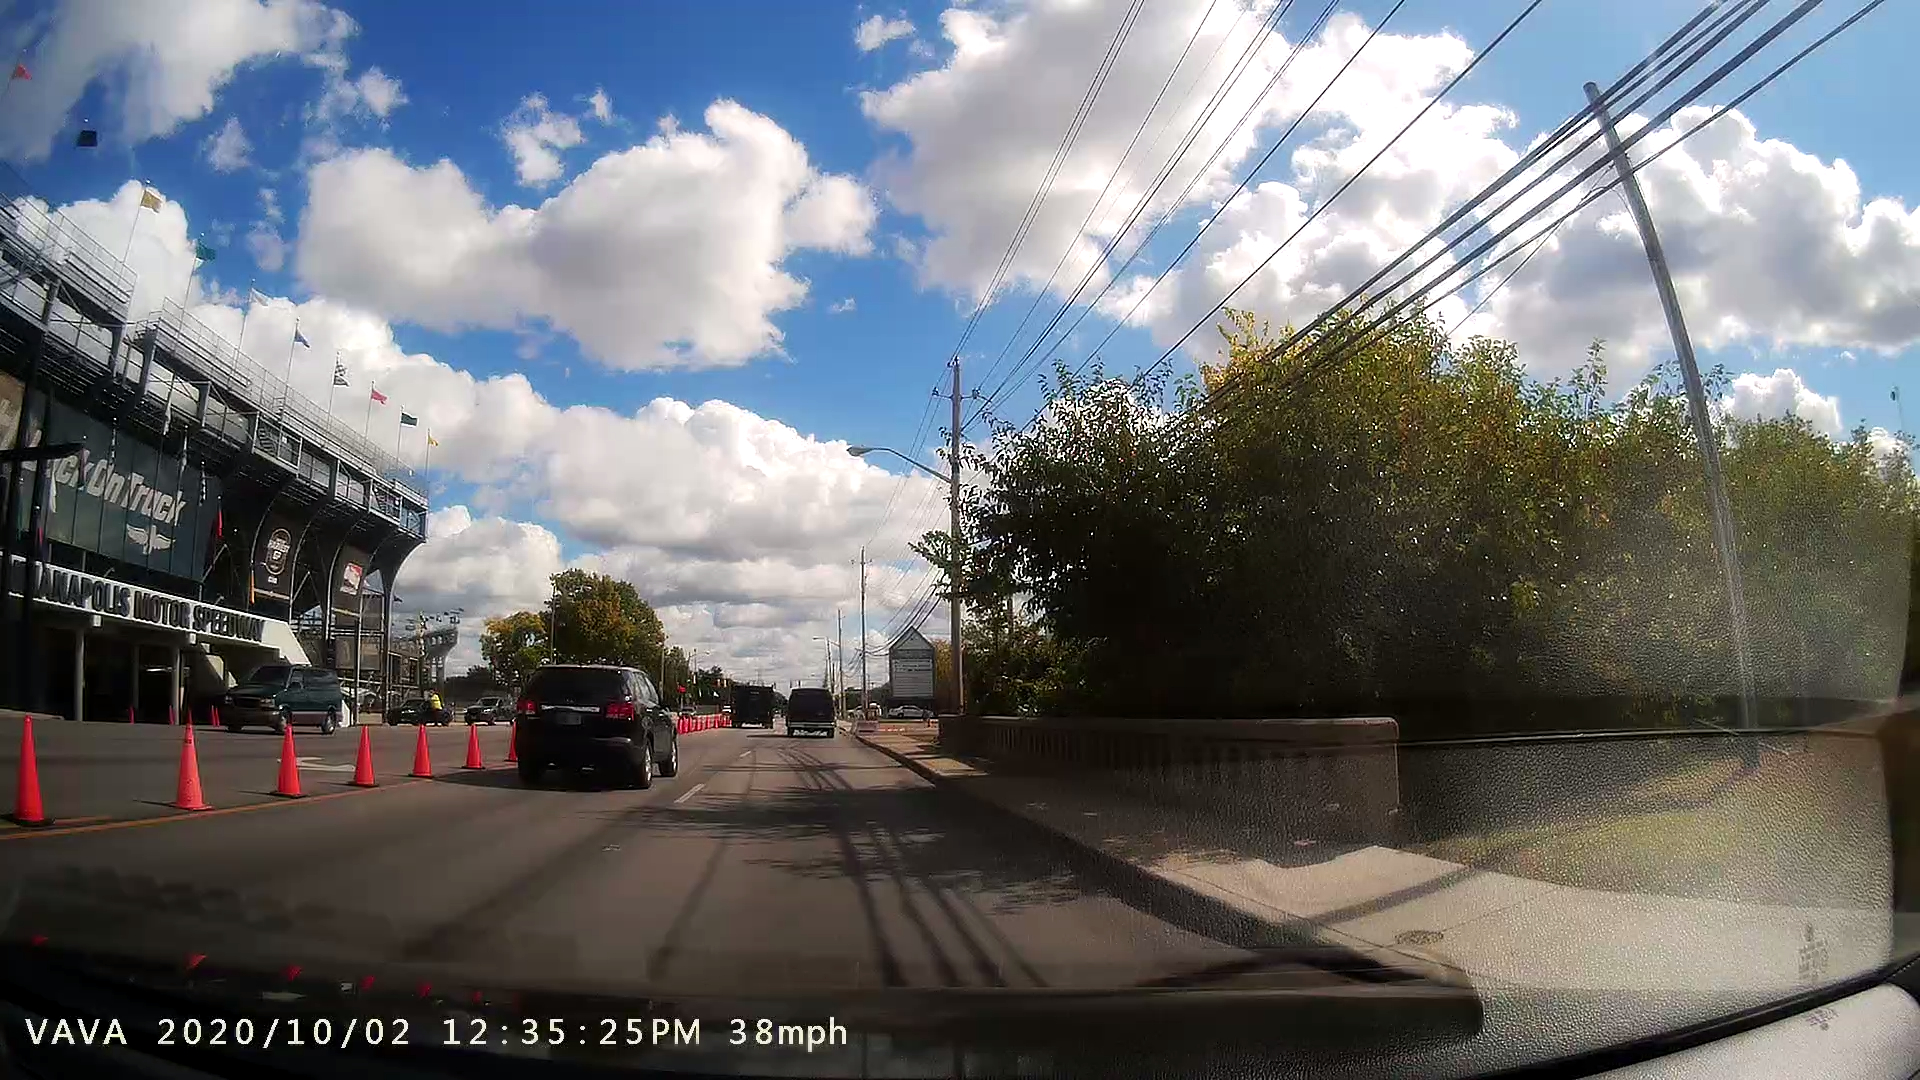const_cone: (0, 704, 63, 848), (152, 709, 218, 824), (262, 713, 319, 808), (338, 716, 382, 800), (405, 717, 443, 782), (458, 716, 495, 781)
